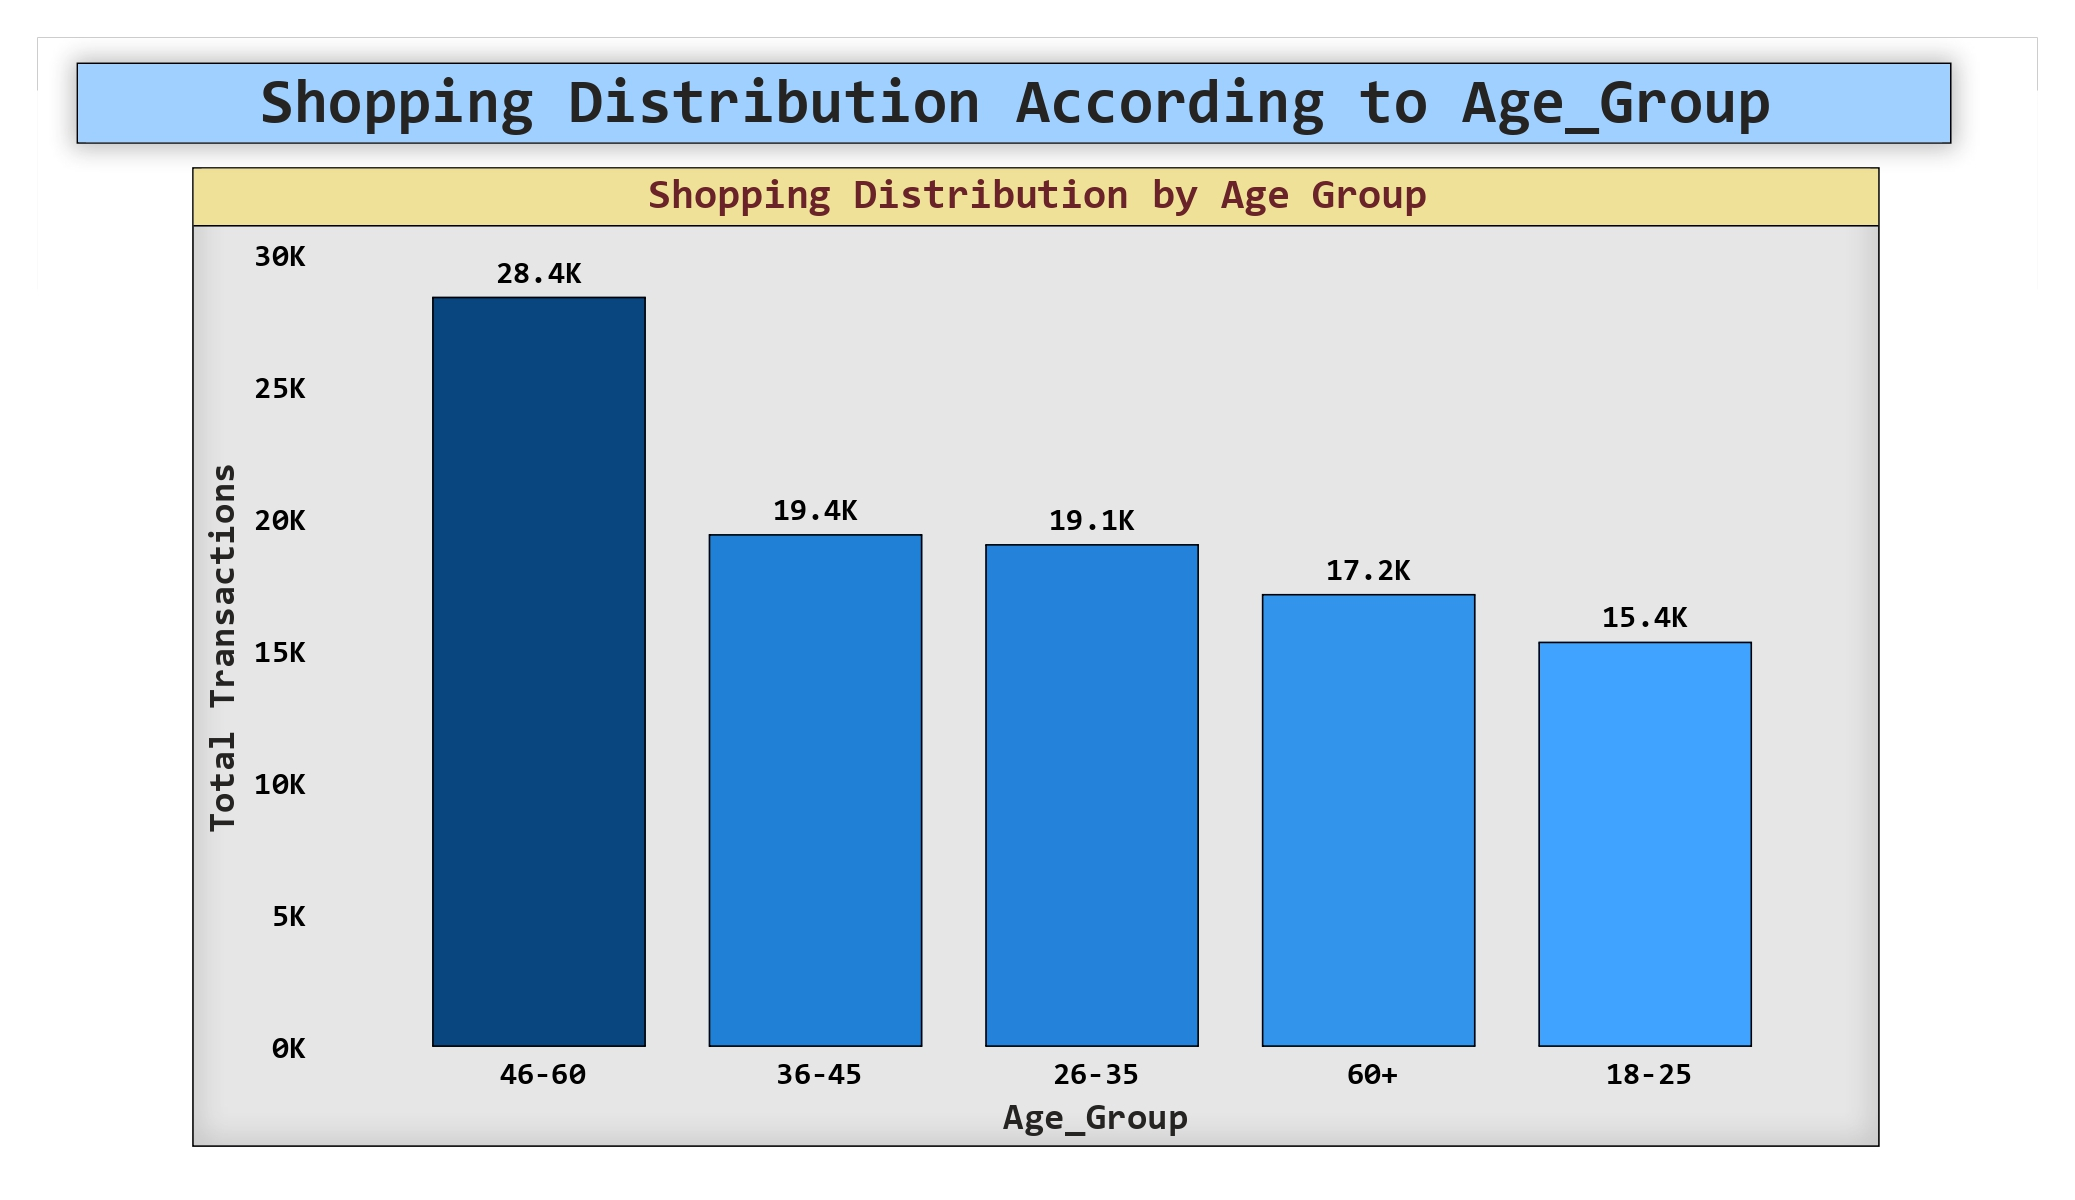

Layout of this report page (visuals, bound fields, positions):
{"tool":"powerbi","page":{"name":"5","canvas":[1280,720],"ordinal":4},"visuals":[{"type":"clusteredColumnChart","title":"Shopping Distribution by Age Group","fields":{"Category":["customer.age_group"],"Y":["CountNonNull(customer.invoice_no)"]},"box":[99,83.2,1079.8,627.3],"z":0},{"type":"textbox","title":"Shopping Distribution According to Age_Group","box":[25,16,1200,52],"z":1000}]}

Visuals, with their boxes on the page's 1280x720 design canvas (x1, y1, x2, y2). These are canvas units, not pixel positions in the 2075x1200 screenshot, which may show the page scaled, cropped or inside an application window:
"Shopping Distribution by Age Group" clusteredColumnChart: [99,83,1179,710]
"Shopping Distribution According to Age_Group" textbox: [25,16,1225,68]
